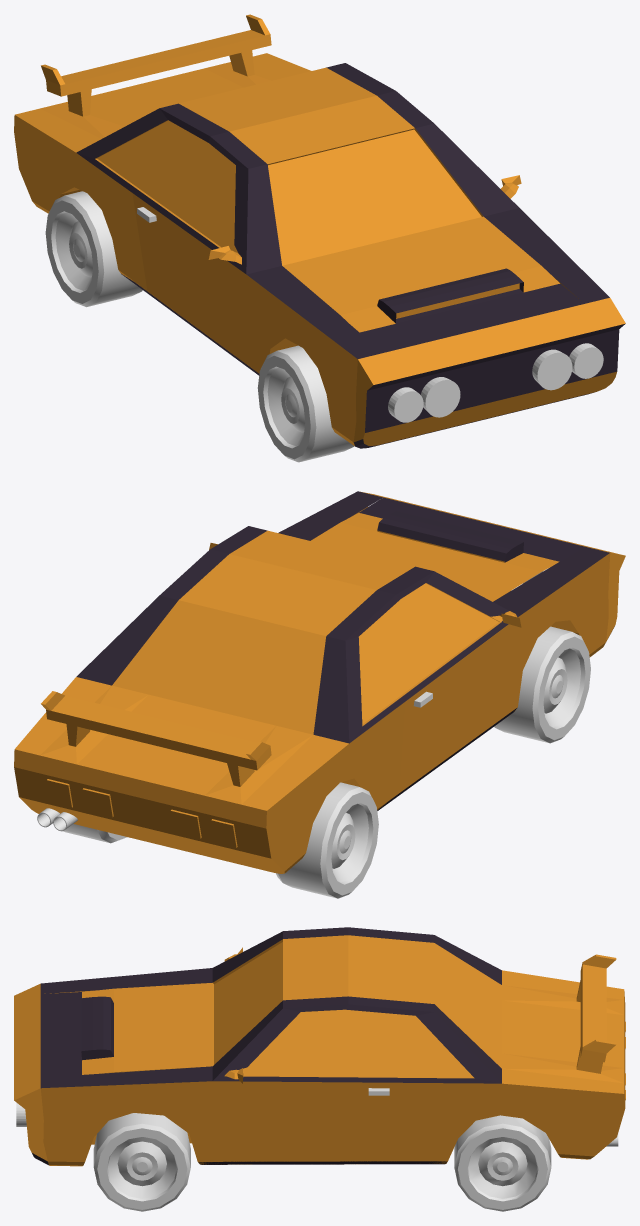
File: car2.fbx
3 views of the same model, one above another, from view 1: azimuth 30°, elevation 25°; view 2: azimuth 150°, elevation 25°; view 3: azimuth 270°, elevation 25° (orthographic). The views are drawn at different scales.
Visible parts, largest first — view 1: Chasis, Right_front_wheel, Right_back_wheel, FaroL.001, FaroR2, FaroR, FaroL; view 2: Chasis, Right_back_wheel, Right_front_wheel, Left_back_wheel; view 3: Chasis, Left_front_wheel, Left_back_wheel.
Part boxes in pixels (x1=…): Chasis: x1=14, y1=14, x2=625, y2=448; Right_front_wheel: x1=257, y1=345, x2=354, y2=462; Right_back_wheel: x1=45, y1=191, x2=142, y2=307; FaroL.001: x1=532, y1=349, x2=572, y2=390; FaroR2: x1=420, y1=377, x2=460, y2=417; FaroR: x1=388, y1=387, x2=423, y2=422; FaroL: x1=569, y1=343, x2=603, y2=378; Chasis: x1=14, y1=491, x2=625, y2=873; Right_back_wheel: x1=275, y1=782, x2=378, y2=898; Right_front_wheel: x1=494, y1=626, x2=590, y2=743; Left_back_wheel: x1=63, y1=824, x2=127, y2=843; Chasis: x1=14, y1=927, x2=625, y2=1166; Left_front_wheel: x1=93, y1=1113, x2=190, y2=1211; Left_back_wheel: x1=454, y1=1115, x2=551, y2=1211.
Size of the model in its own units: 1.92 by 1.31 by 3.83.
